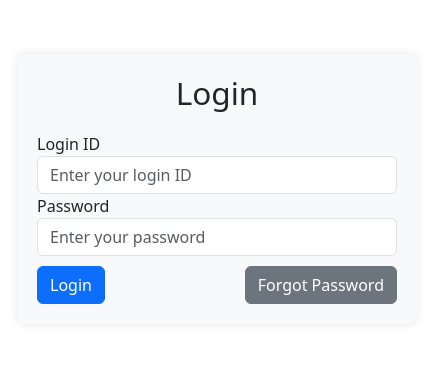
Test: LoginPage › shows error message for failed login
The width and height of the screenshot is (435, 379).
Type "user" into the field labelled "Login ID". click: {"x": 217, "y": 175}
box: [37,156,397,194]
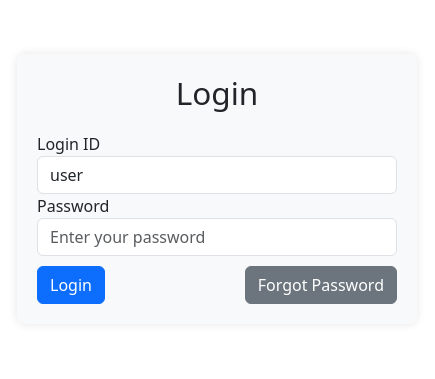
Type "wrongpassword" into the password field labelled "Password". click: {"x": 217, "y": 237}
box: [37,218,397,256]
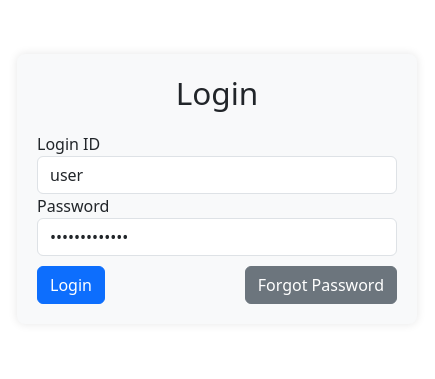
Click the button "Login". click: {"x": 71, "y": 285}
box: [37,266,105,304]
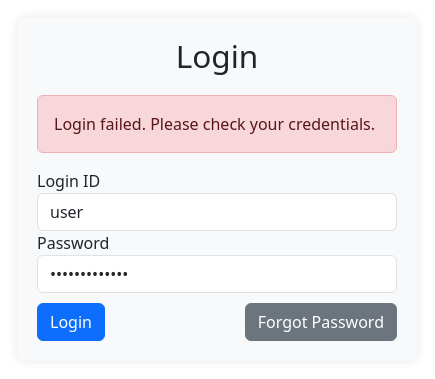
expect the text "Login failed. Please check your credentials." is shown: met, box [37,95,397,153]
